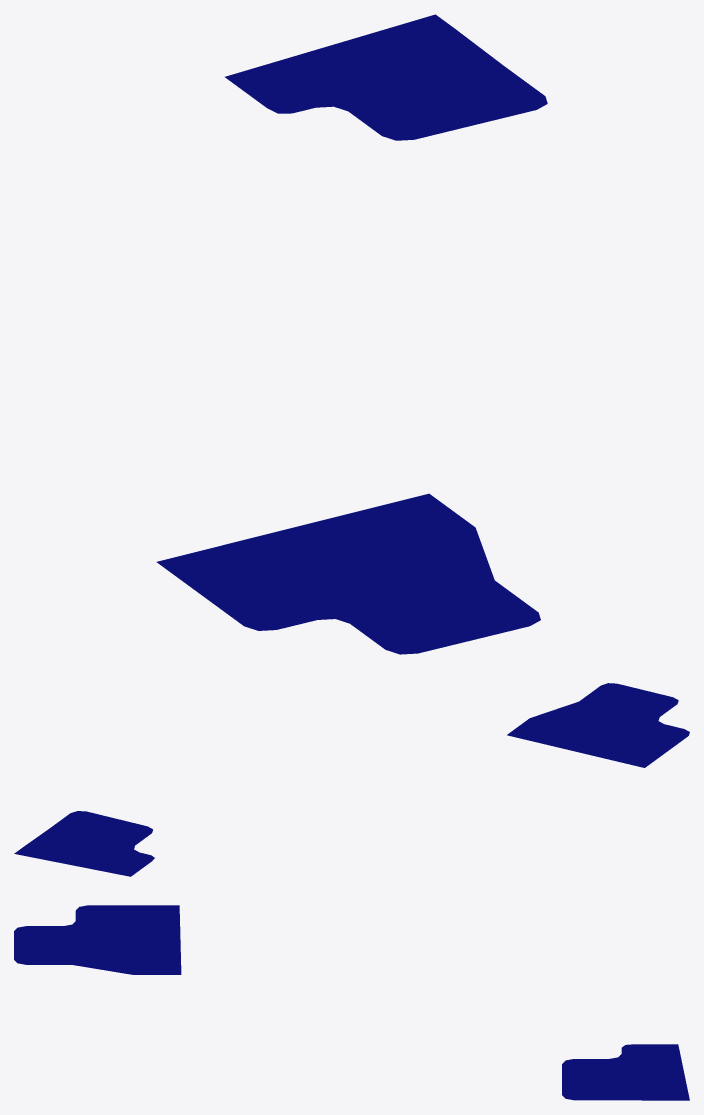
The model's file is base_shadows.fbx.
The picture shows the model from 3 angles, top to bottom: view 1: azimuth 30°, elevation 25°; view 2: azimuth 150°, elevation 25°; view 3: azimuth 270°, elevation 25°; orthographic projection. The views are drawn at different scales.
Parts seen in each view (by area): view 1: Line013, Line014; view 2: Line013, Line014; view 3: Line013, Line014.
Part boxes in pixels (bbox=[...]): Line013: bbox=[156, 493, 540, 654]; Line014: bbox=[225, 14, 547, 140]; Line013: bbox=[507, 683, 689, 767]; Line014: bbox=[14, 811, 154, 876]; Line013: bbox=[14, 905, 181, 974]; Line014: bbox=[562, 1044, 689, 1100].
Size of the model in its own units: 131 by 3.08e-15 by 192.
